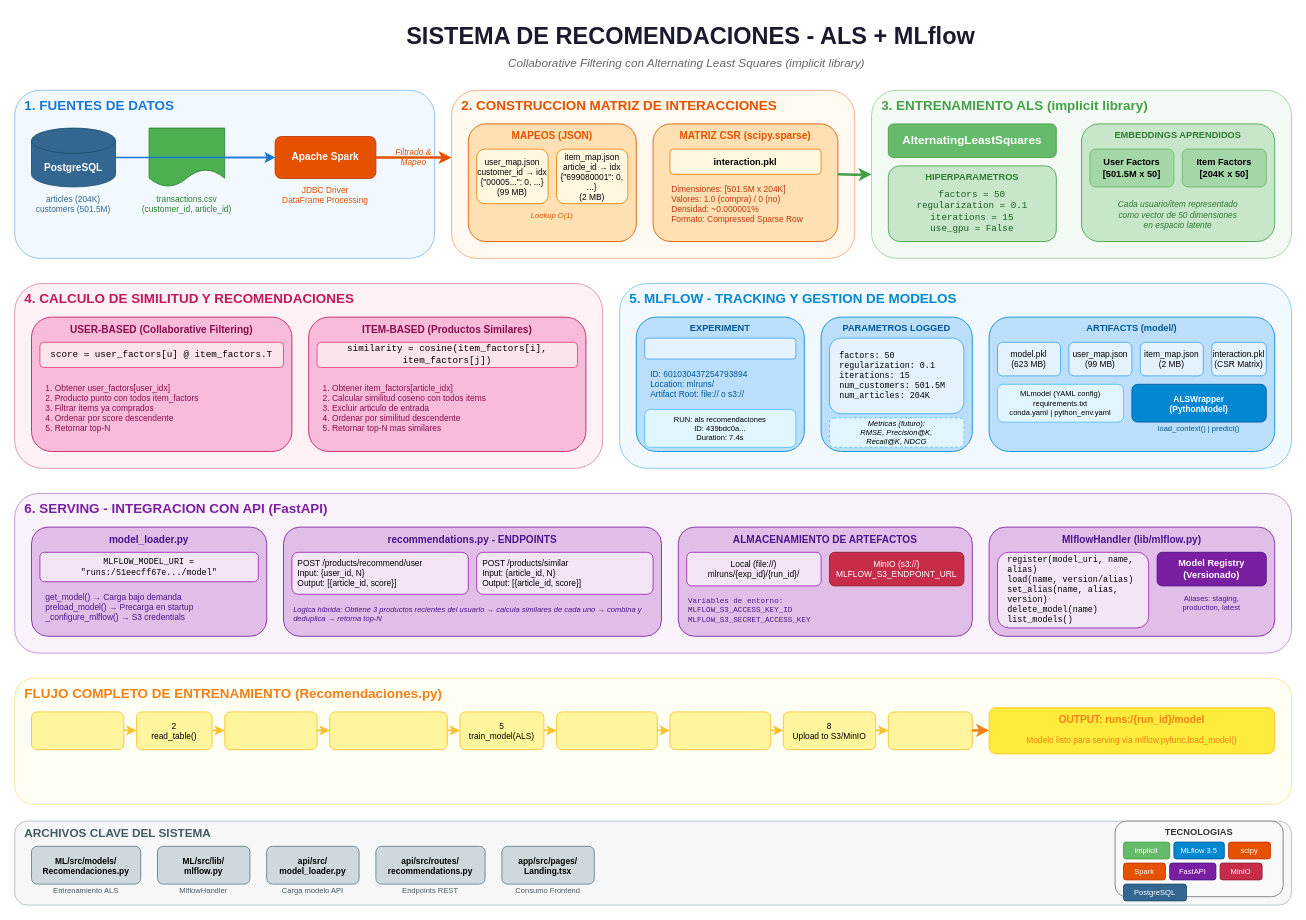
This 1306x920 diagram has some shape labels left out. Each missing label, with the centre of its shape:
"1 build_spark_session()" belongs at (77,730).
"3 load_transactions()" belongs at (270,730).
"4 build_interaction_matrix()" belongs at (388,730).
"6 RecommenderArtifacts" belongs at (606,730).
"7 log_model_to_mlflow()" belongs at (720,730).
"9 Register Model (opcional)" belongs at (929,730).
"CSV" belongs at (186,157).
"store-experiments" belongs at (720,348).
